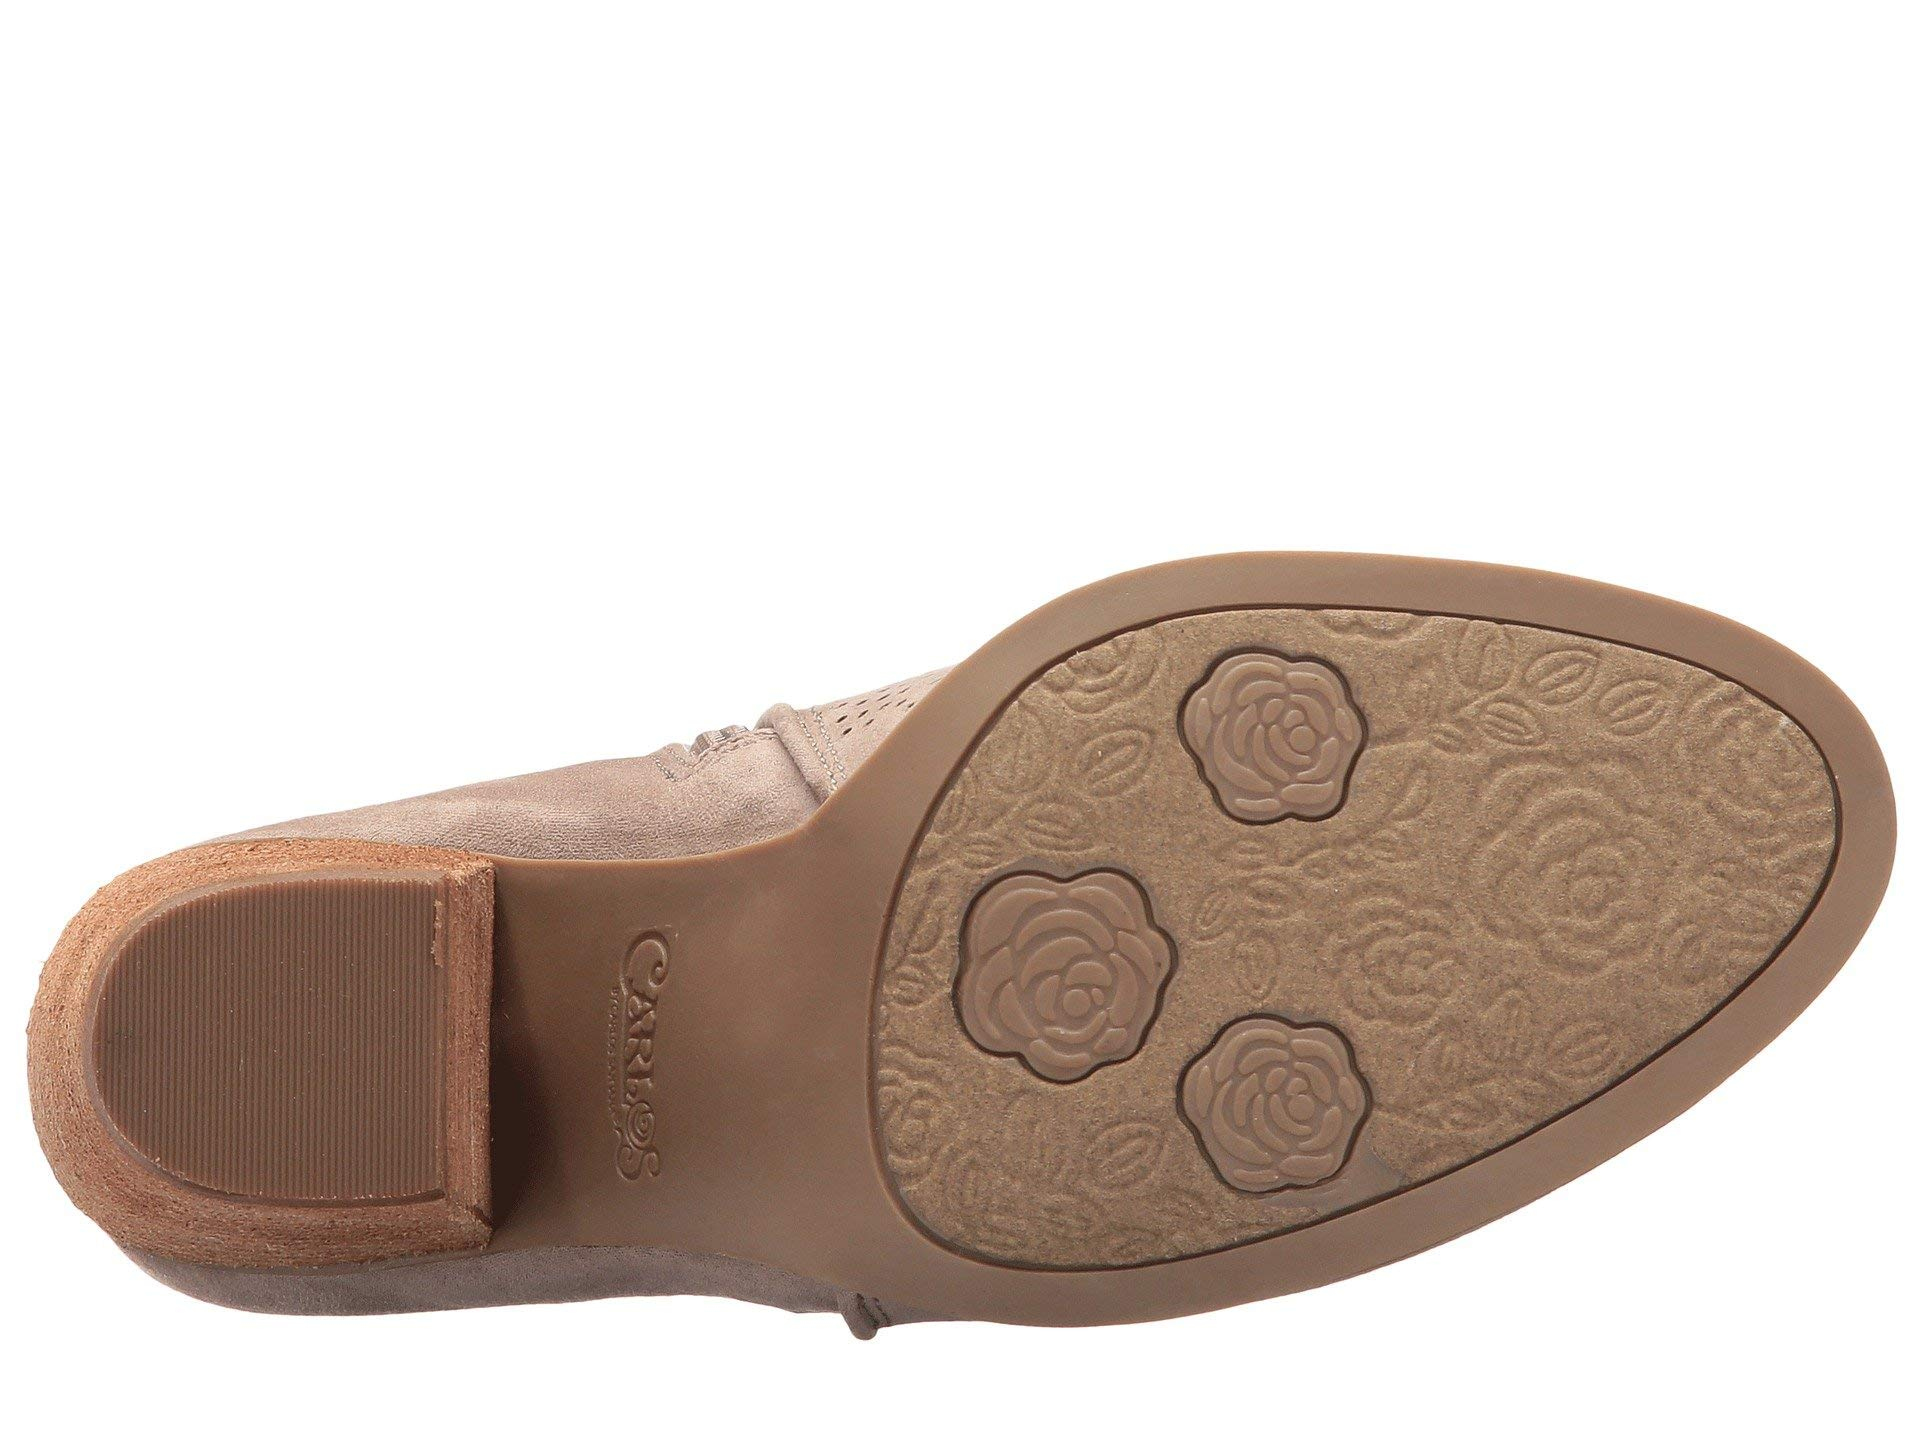circle: (1054, 967, 1099, 1038), (1274, 709, 1327, 770), (1284, 1078, 1326, 1137)
line: (178, 921, 399, 1141)
